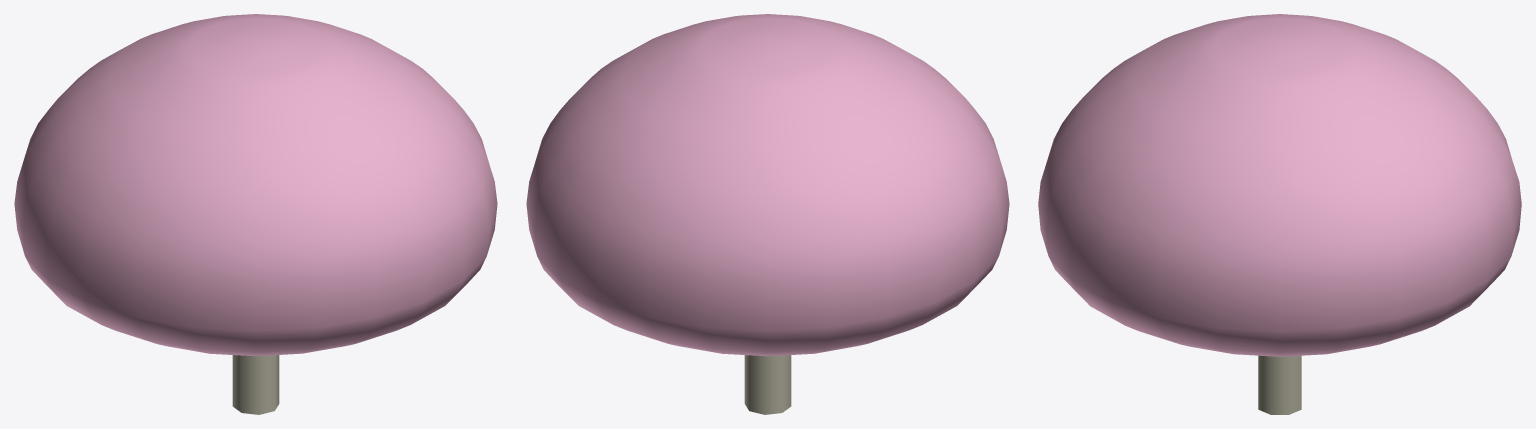
Rendered from RhododendronTsutsuji.glb.
3 renders of one model, left to right at view 1: azimuth 30°, elevation 25°; view 2: azimuth 150°, elevation 25°; view 3: azimuth 270°, elevation 25°, orthographic.
Parts seen in each view (by area): view 1: Rhododendron_Azaleas__Schematic_LOD3; view 2: Rhododendron_Azaleas__Schematic_LOD3; view 3: Rhododendron_Azaleas__Schematic_LOD3.
Boxes of the visible parts, <box> form: Rhododendron_Azaleas__Schematic_LOD3: <box>14,14,497,414</box>; Rhododendron_Azaleas__Schematic_LOD3: <box>526,14,1009,414</box>; Rhododendron_Azaleas__Schematic_LOD3: <box>1038,14,1521,414</box>.
Size of the model in its own units: 1.02 by 0.85 by 1.02.
